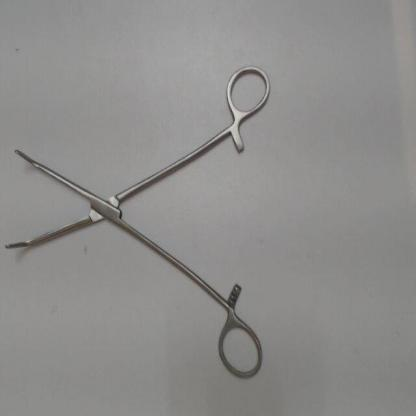Lahey Forceps: (2, 61, 276, 387)
